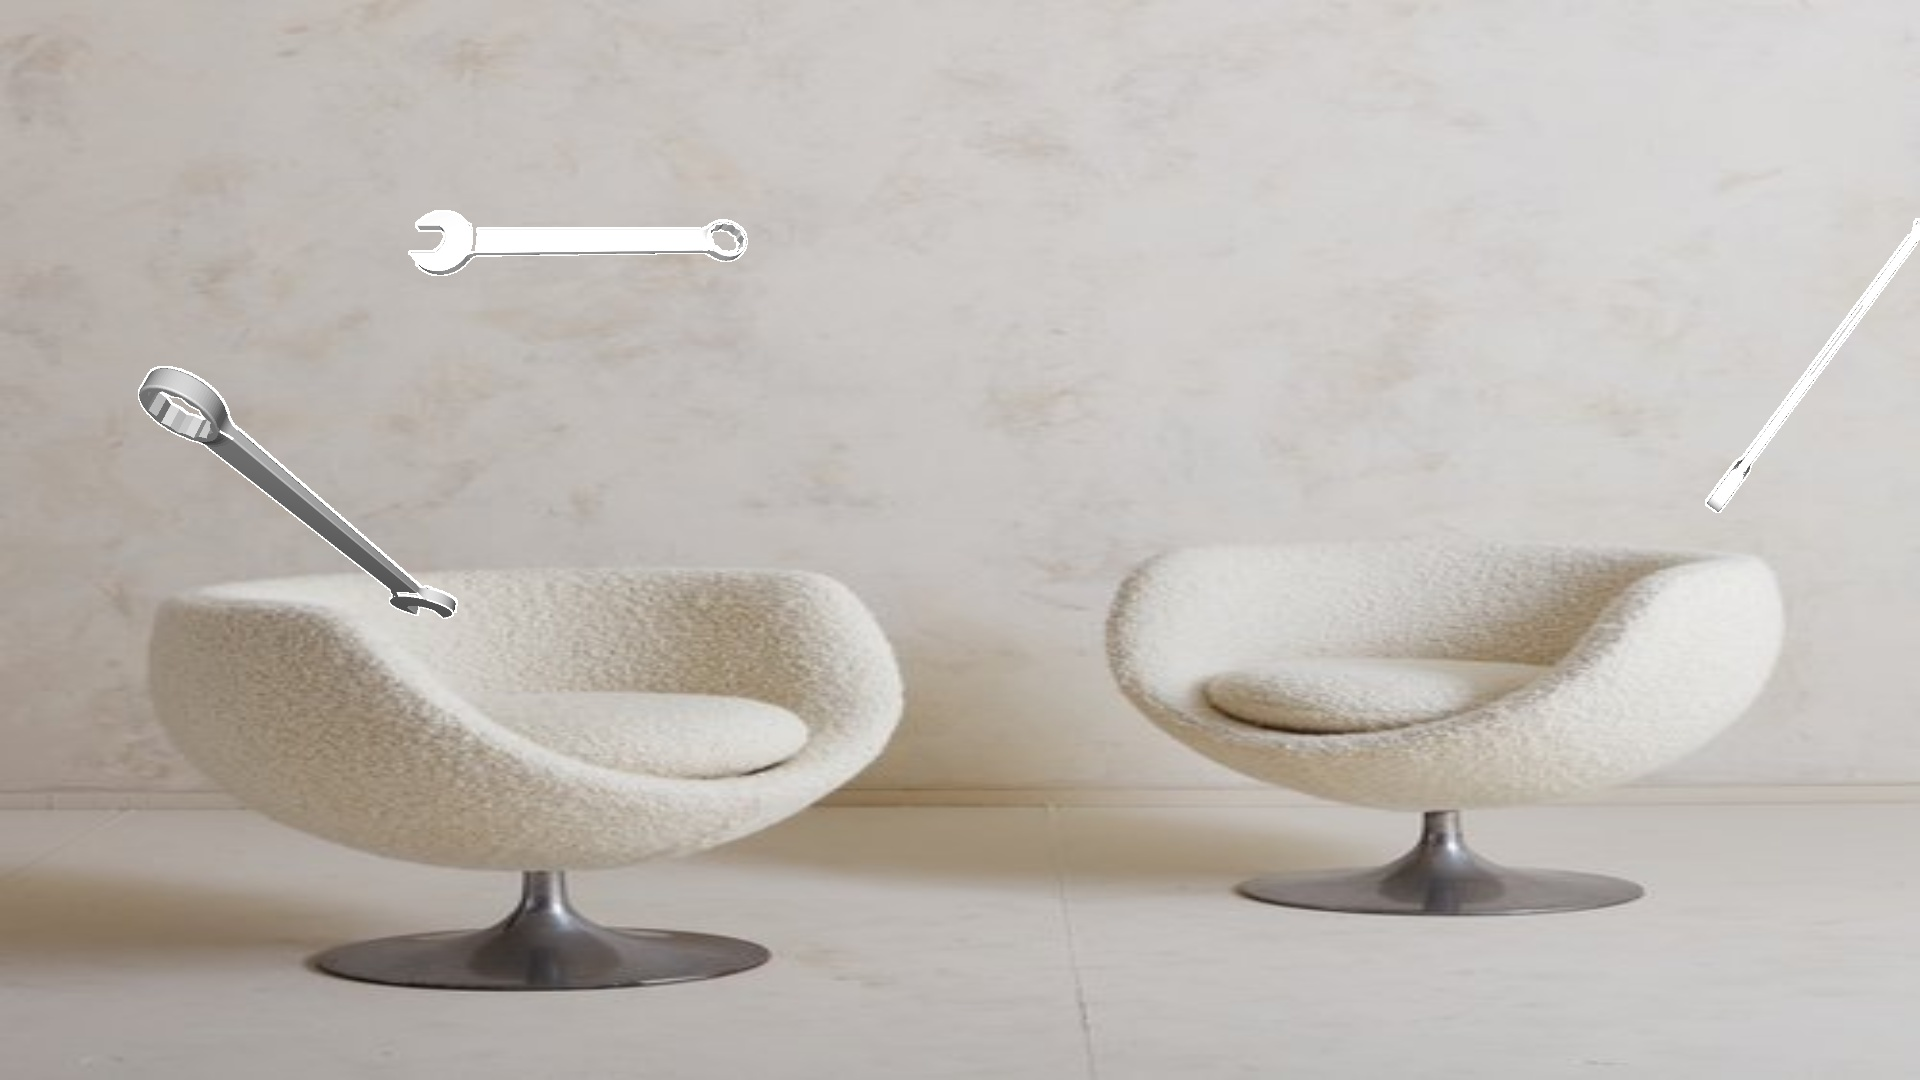Mixed Key: (138, 367, 458, 618), (1705, 218, 1919, 512), (407, 210, 746, 276)
